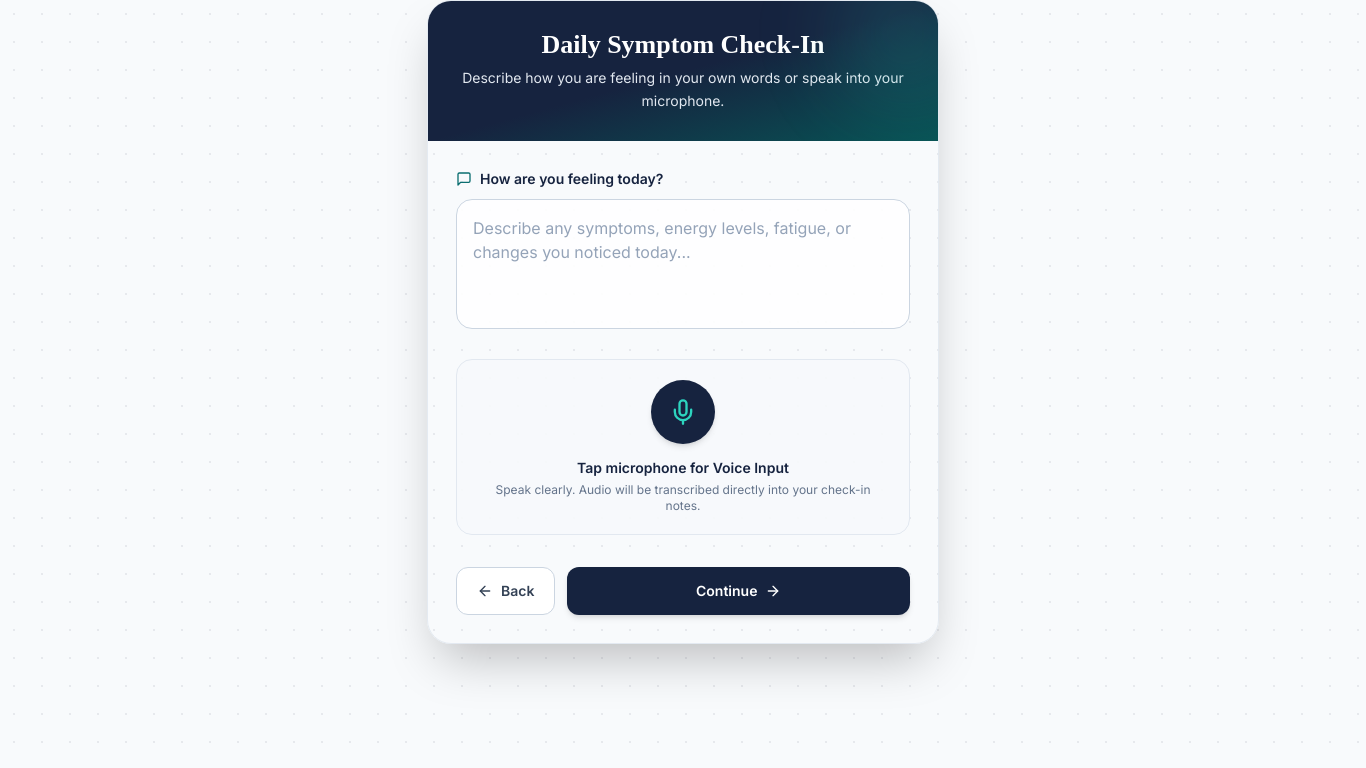
it: STAGE 10E-0 Bug 2: CheckInEntryScreen voice recording › live mode: permission denied shows clear microphone error message
The image size is (1366, 768).
Step 1. Click the button named "Tap microphone for Voice Input" → (683, 412), box [651, 380, 715, 444]
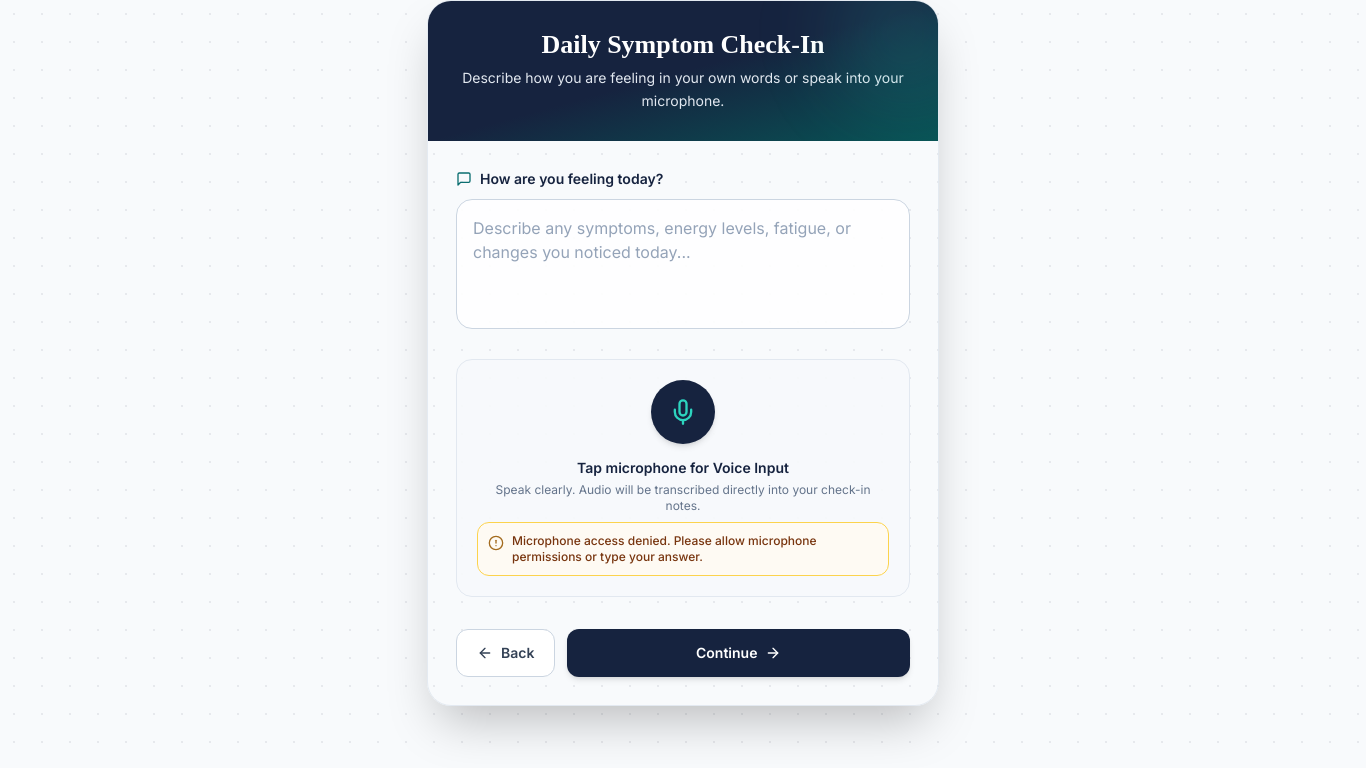
Check: the text "Microphone access denied. Please allow microphone permissions or type your answer." is shown, box [512, 532, 816, 564]
